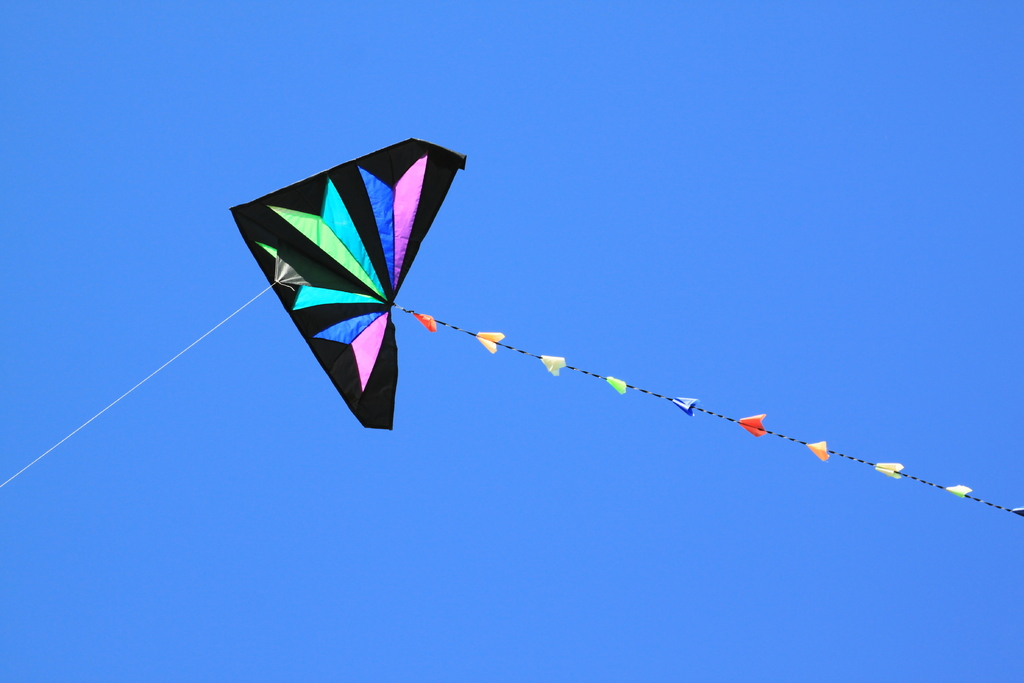kite: (225, 135, 492, 440)
